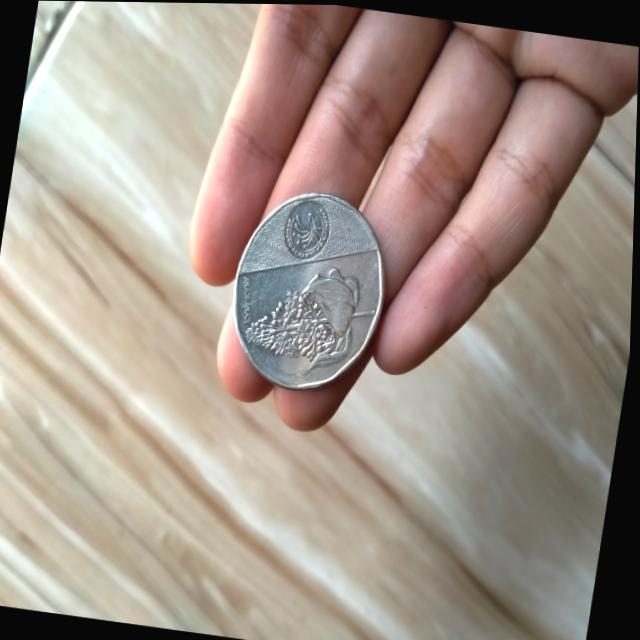10_New_Back: (223, 252, 392, 401)
